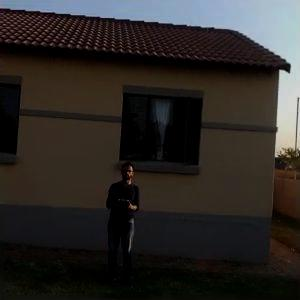follow: (99, 155, 141, 290)
